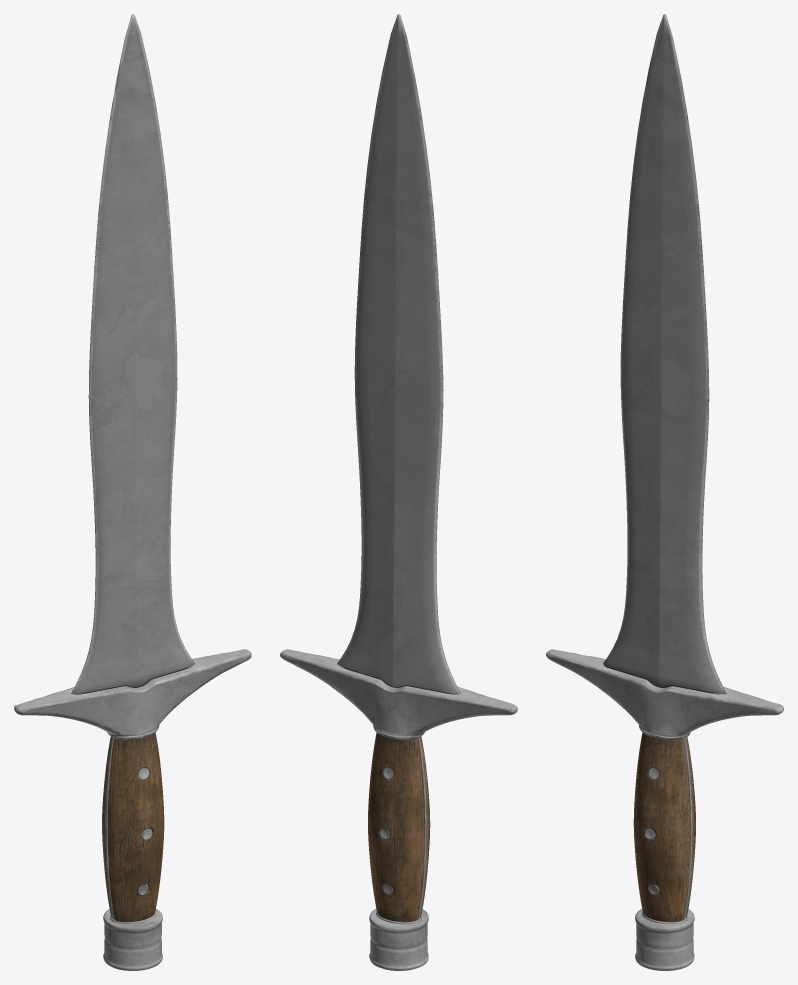
File: sword_generic_hifi.glb
3 views of the same model, side by side, from view 1: azimuth 30°, elevation 25°; view 2: azimuth 150°, elevation 25°; view 3: azimuth 330°, elevation 25° (orthographic).
Visible parts, largest first — view 1: SM_Sword_LOD0; view 2: SM_Sword_LOD0; view 3: SM_Sword_LOD0.
Boxes of the visible parts, box(x1,y1,x2,y2) form: SM_Sword_LOD0: box(14, 14, 251, 970); SM_Sword_LOD0: box(280, 14, 517, 970); SM_Sword_LOD0: box(546, 14, 783, 970).
Bounding box in the file's own units: 0.1935 × 0.744 × 0.0428.
1 material, 1 textured.
